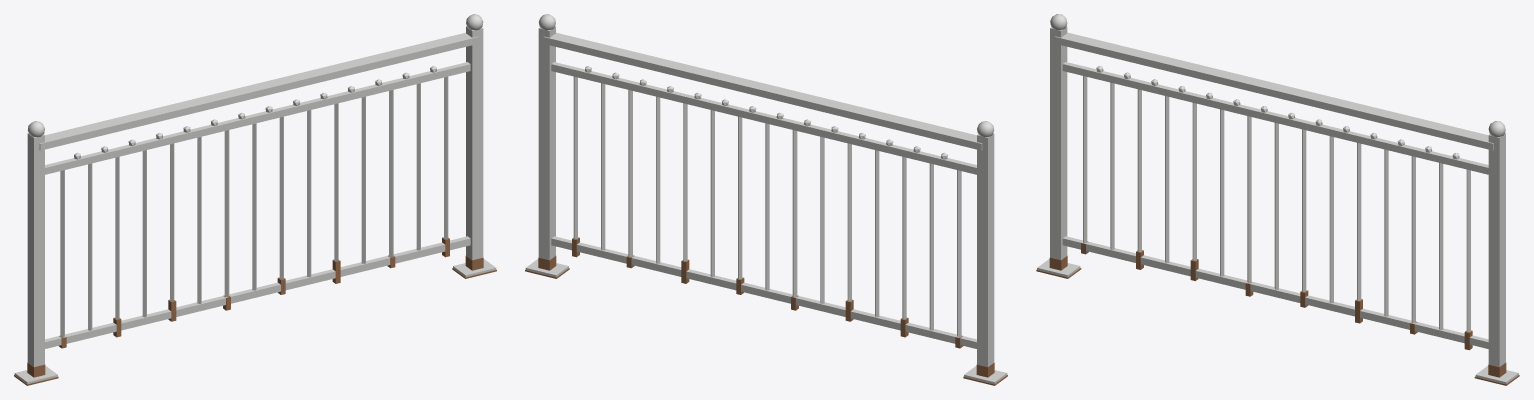
The model's file is fence_rail.glb.
The picture shows the model from 3 angles, left to right: view 1: azimuth 30°, elevation 25°; view 2: azimuth 150°, elevation 25°; view 3: azimuth 330°, elevation 25°; orthographic projection.
Visible parts, largest first — view 1: fence_rail_body; view 2: fence_rail_body; view 3: fence_rail_body.
Boxes of the visible parts, x1,y1,x2,y2 form: fence_rail_body: (14, 14, 496, 385); fence_rail_body: (525, 14, 1007, 385); fence_rail_body: (1036, 14, 1519, 385).
Size of what is drawn, in the model's own units: 2.14 by 1.12 by 0.104.
